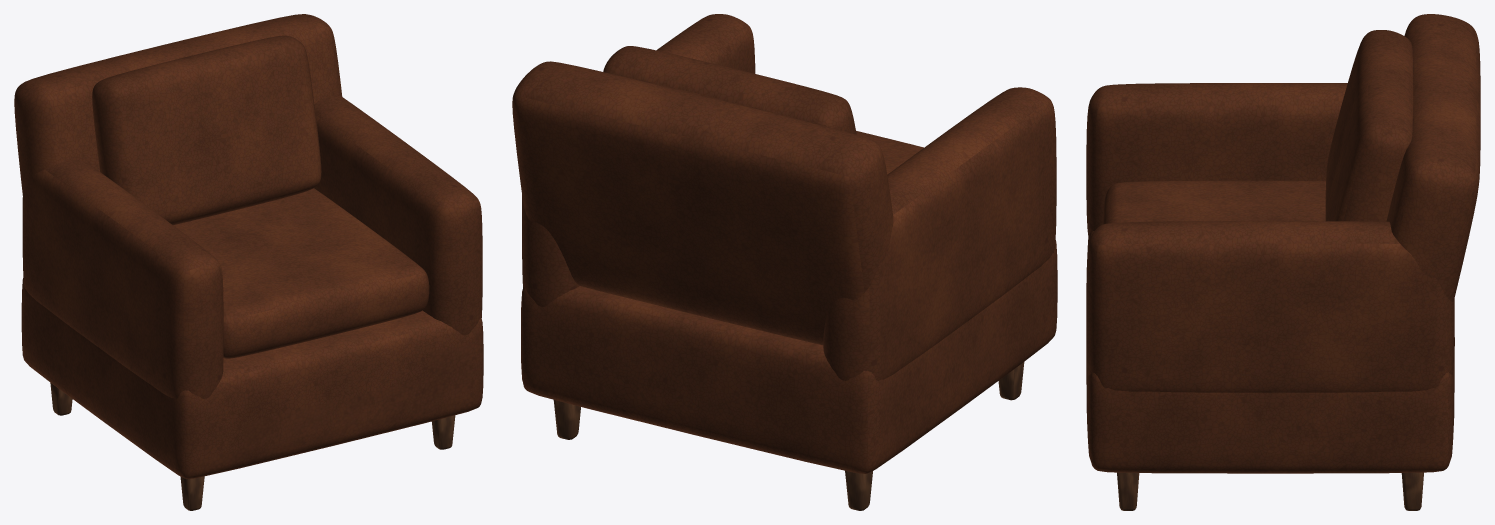
The model's file is chair.glb.
3 renders of one model, left to right at view 1: azimuth 30°, elevation 25°; view 2: azimuth 150°, elevation 25°; view 3: azimuth 270°, elevation 25°, orthographic. The views are drawn at different scales.
Parts seen in each view (by area): view 1: Chair; view 2: Chair; view 3: Chair.
Boxes of the visible parts, x1,y1,x2,y2 form: Chair: (14,14,483,510); Chair: (512,14,1057,510); Chair: (1086,14,1480,510).
Bounding box in the file's own units: 0.7488 × 0.7666 × 0.7483.
Materials: 2 (2 with a texture image).
